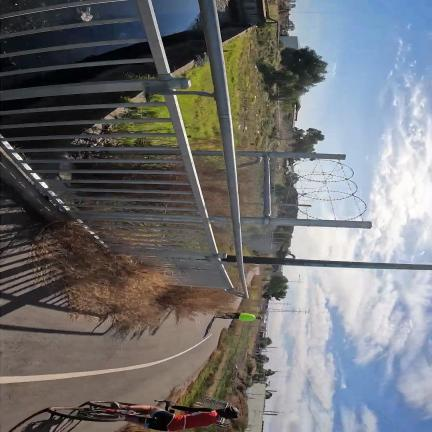Bike_Lane: (0, 288, 229, 432)
